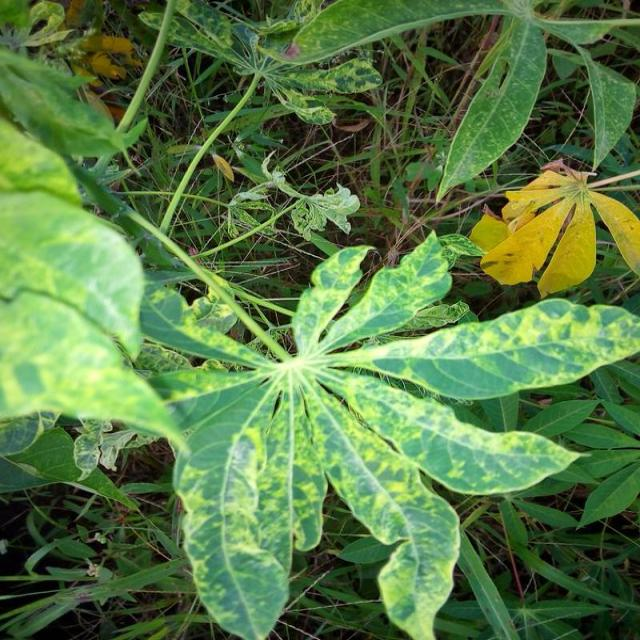cassava leaf: (136, 228, 630, 638), (470, 159, 640, 298)
